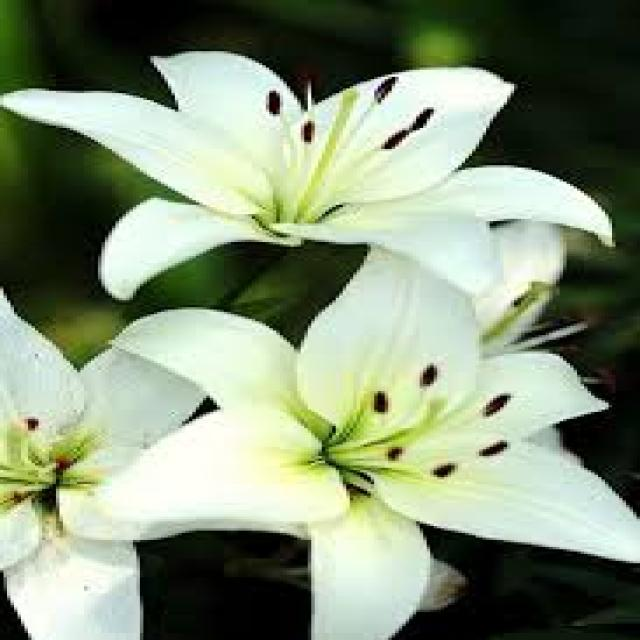lily: (111, 271, 640, 640)
